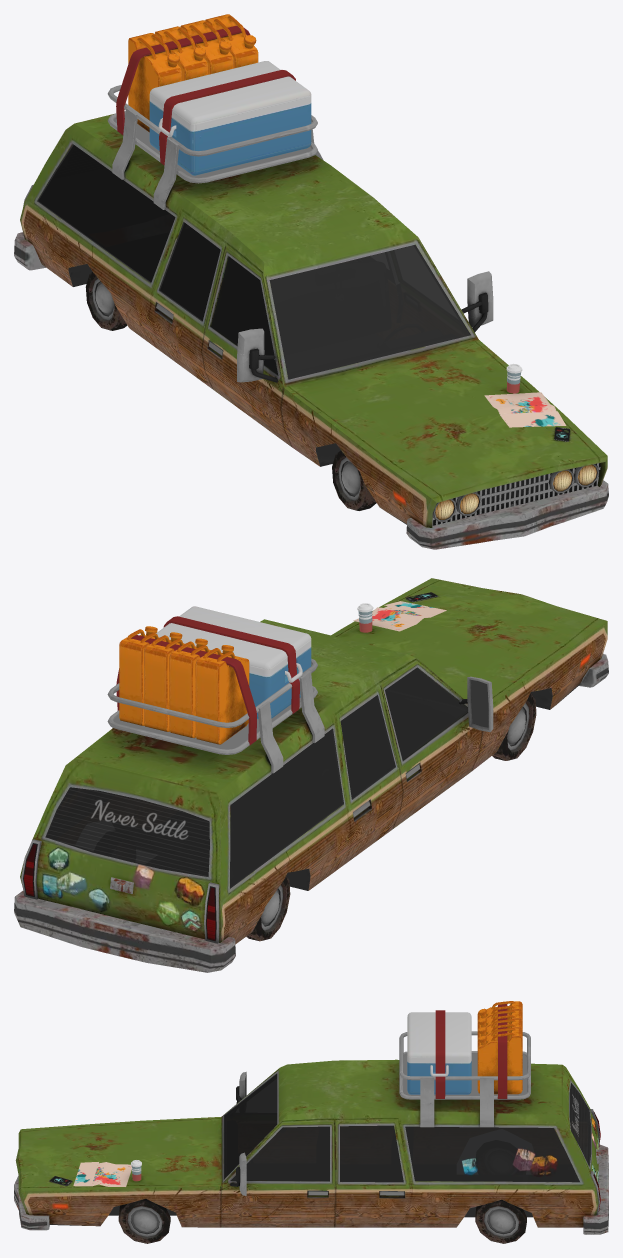
The model's file is travel.glb.
3 renders of one model, top to bottom at view 1: azimuth 30°, elevation 25°; view 2: azimuth 150°, elevation 25°; view 3: azimuth 270°, elevation 25°, orthographic. The views are drawn at different scales.
Visible parts, largest first — view 1: MAIN_BODY_EXT, WINDOWS, PROPS_INTERIOR_2, PROPS_INTERIOR_2_1; view 2: MAIN_BODY_EXT, PROPS_INTERIOR_2, WINDOWS, PROPS_INTERIOR_2_1; view 3: MAIN_BODY_EXT, WINDOWS, PROPS_INTERIOR_2, PROPS_INTERIOR_2_1.
Boxes of the visible parts, <box> form: MAIN_BODY_EXT: <box>14,114,608,549</box>; WINDOWS: <box>38,145,469,379</box>; PROPS_INTERIOR_2: <box>68,14,570,441</box>; PROPS_INTERIOR_2_1: <box>37,144,470,524</box>; MAIN_BODY_EXT: <box>14,578,608,972</box>; PROPS_INTERIOR_2: <box>107,592,446,890</box>; WINDOWS: <box>46,668,467,887</box>; PROPS_INTERIOR_2_1: <box>45,683,580,888</box>; MAIN_BODY_EXT: <box>14,1059,608,1243</box>; WINDOWS: <box>224,1074,589,1181</box>; PROPS_INTERIOR_2: <box>49,1001,532,1217</box>; PROPS_INTERIOR_2_1: <box>49,1073,591,1225</box>.
Size of the model in its own units: 2.3 by 2.39 by 6.45.
3 materials, 3 textured.
